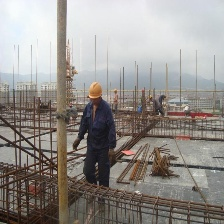helmet: (89, 81, 103, 100)
no-vest: (83, 102, 110, 150)
person: (80, 77, 113, 190)
